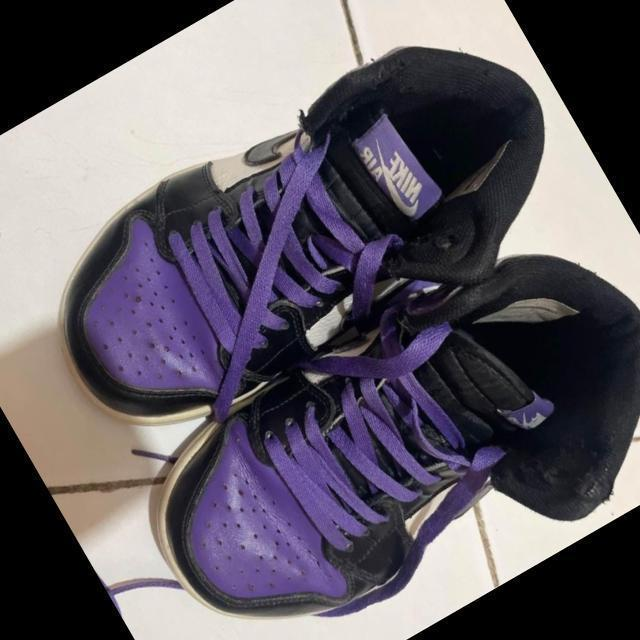nike fake jordan 1: (12, 0, 600, 473), (99, 206, 640, 640)
